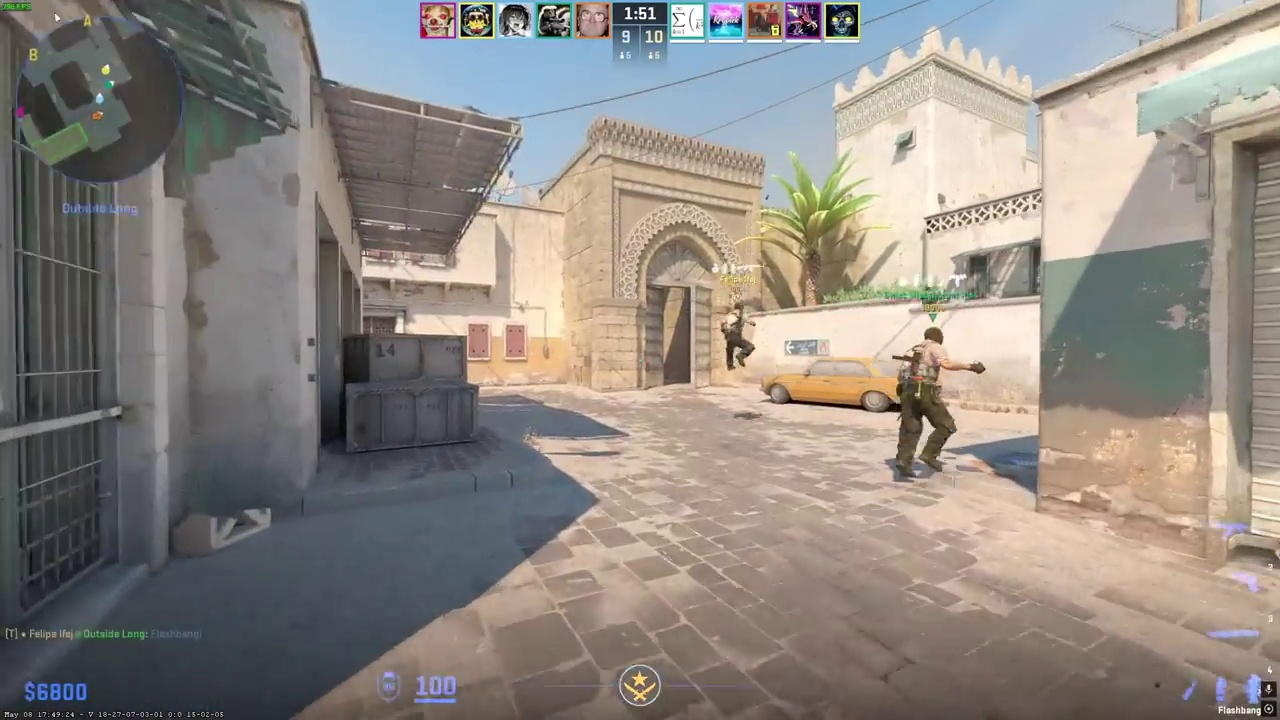Terrorist: (891, 326, 961, 482), (722, 303, 753, 371)
